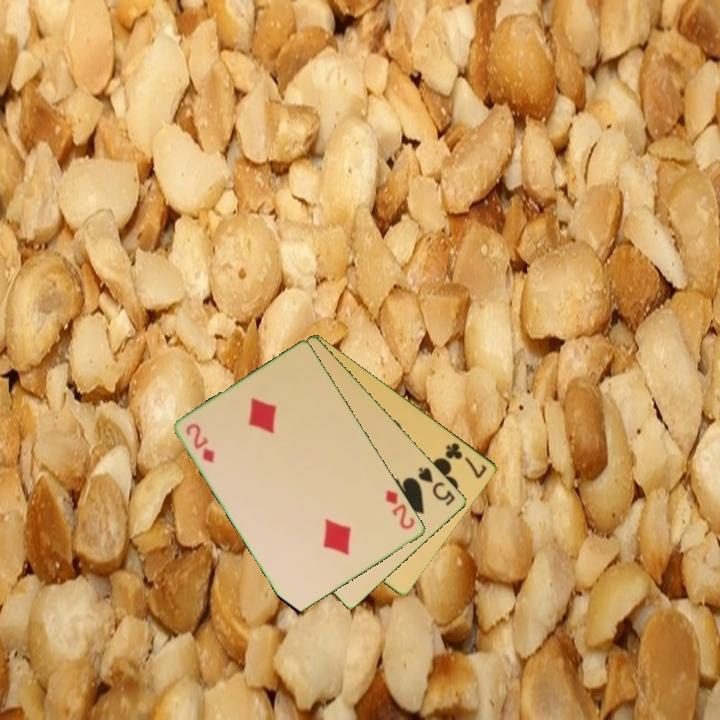2d: (182, 420, 218, 466), (382, 487, 418, 532)
5s: (415, 463, 459, 509)
7c: (442, 439, 490, 481)
